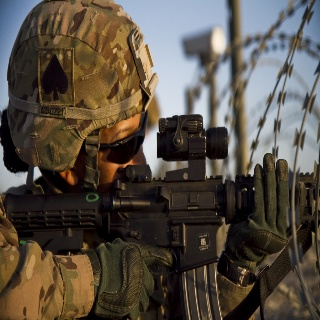rifle: (3, 111, 320, 320)
